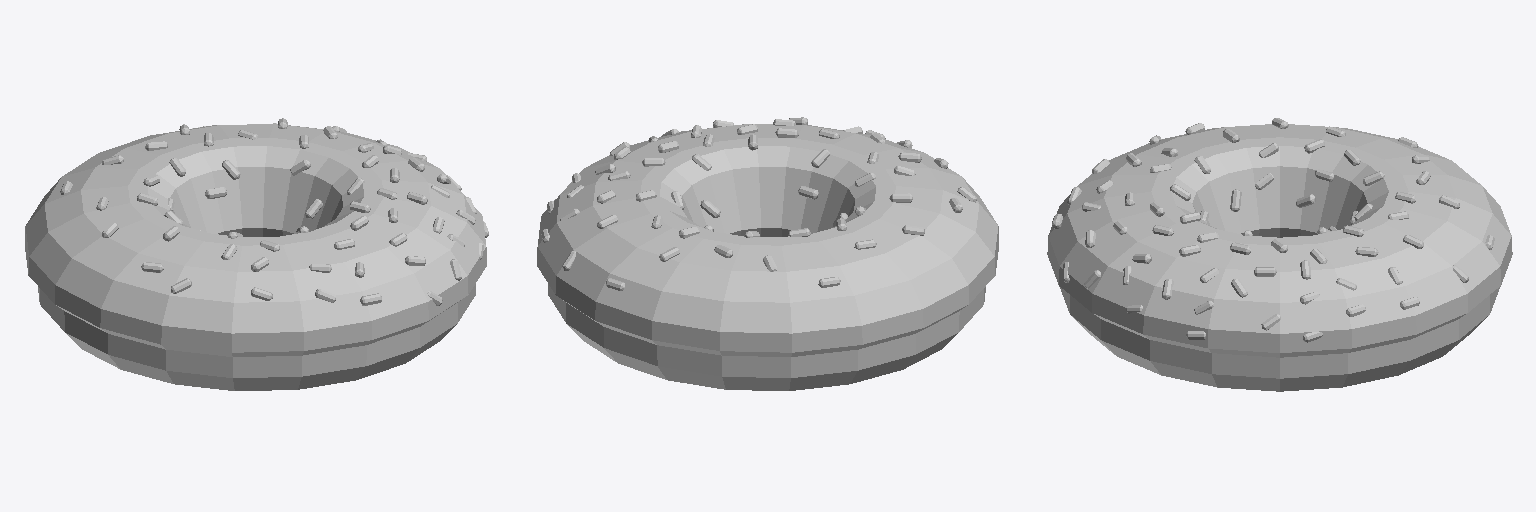
The model's file is Donut6.obj.
3 views of the same model, side by side, from view 1: azimuth 30°, elevation 25°; view 2: azimuth 150°, elevation 25°; view 3: azimuth 270°, elevation 25° (orthographic).
Visible parts, largest first — view 1: Torus; view 2: Torus; view 3: Torus.
Part boxes in pixels (bbox=[...]): Torus: bbox=[25, 124, 486, 390]; Torus: bbox=[537, 124, 998, 390]; Torus: bbox=[1047, 124, 1512, 391].
Size of the model in its own units: 3.7 by 1.26 by 3.7.